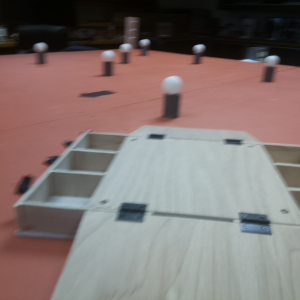corner: (125, 16, 139, 48)
obstacle: (163, 75, 182, 116), (261, 53, 279, 85), (100, 49, 115, 76), (34, 42, 47, 65), (119, 44, 132, 66), (192, 43, 206, 62), (141, 39, 150, 54)
slope: (52, 210, 300, 299), (129, 118, 255, 145)
start: (76, 89, 117, 100)
